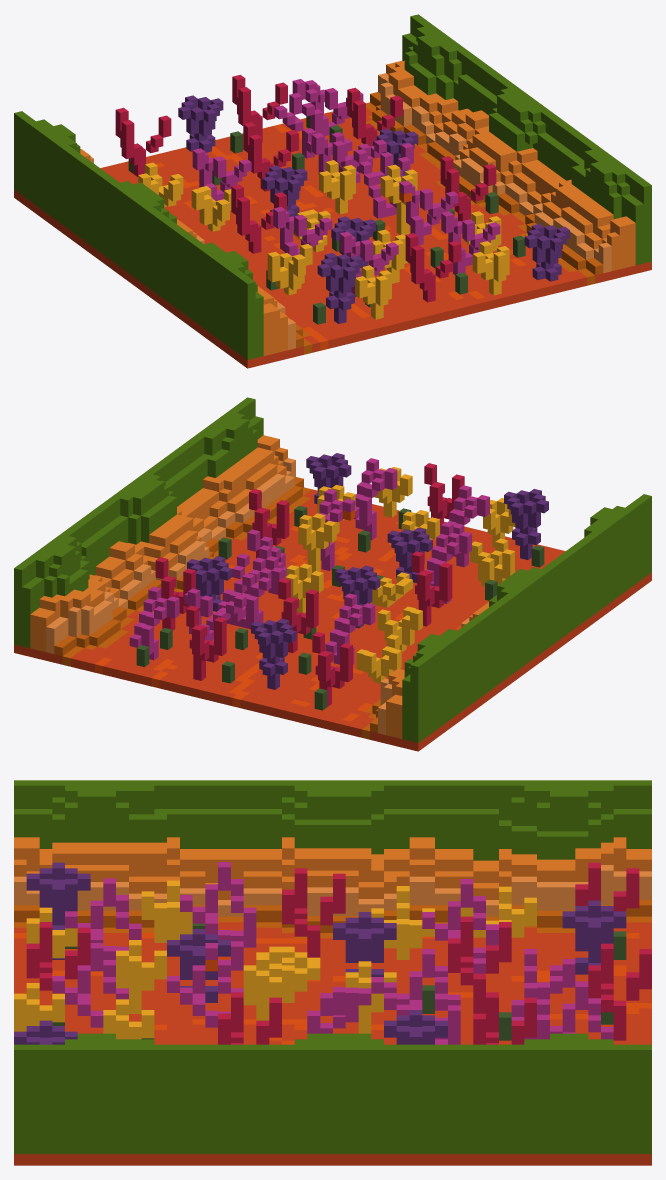
Rendered from westernWoter.obj.
The picture shows the model from 3 angles, top to bottom: view 1: azimuth 30°, elevation 25°; view 2: azimuth 150°, elevation 25°; view 3: azimuth 270°, elevation 25°; orthographic projection. The views are drawn at different scales.
Bounding box in the file's own units: 5 × 1 × 5.
1 material, 1 textured.
